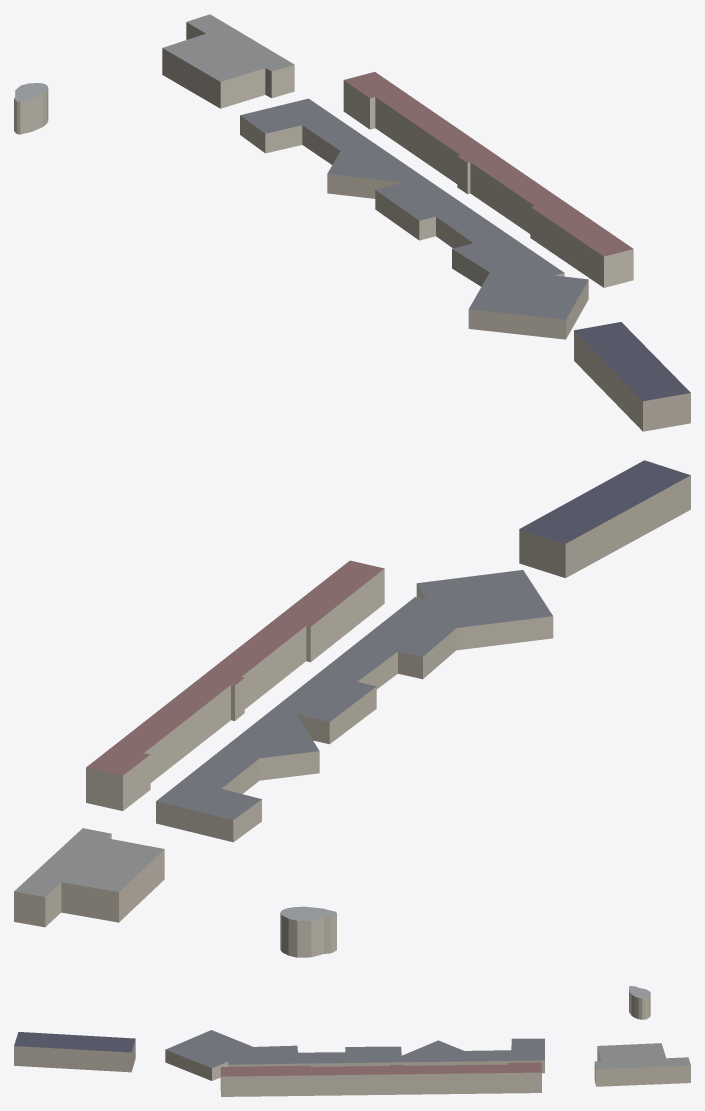
The picture shows the model from 3 angles, top to bottom: view 1: azimuth 30°, elevation 25°; view 2: azimuth 150°, elevation 25°; view 3: azimuth 270°, elevation 25°; orthographic projection. The views are drawn at different scales.
Visible parts, largest first — view 1: tuile; view 2: tuile; view 3: tuile.
Boxes of the visible parts, x1=… form: tuile: x1=14, y1=14, x2=690, y2=431; tuile: x1=14, y1=460, x2=690, y2=957; tuile: x1=14, y1=986, x2=690, y2=1096.
Size of the model in its own units: 82.1 by 10.73 by 244.
